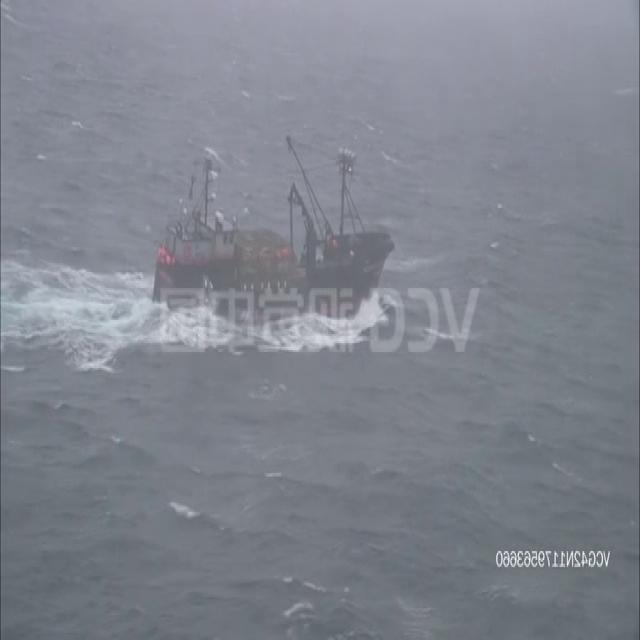houseboat: (158, 142, 386, 325)
